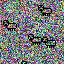sheep: (41, 36, 56, 48), (28, 34, 42, 46), (3, 20, 17, 31), (38, 5, 52, 16)
